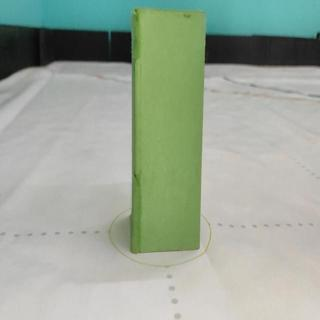greenbox: (129, 5, 206, 253)
